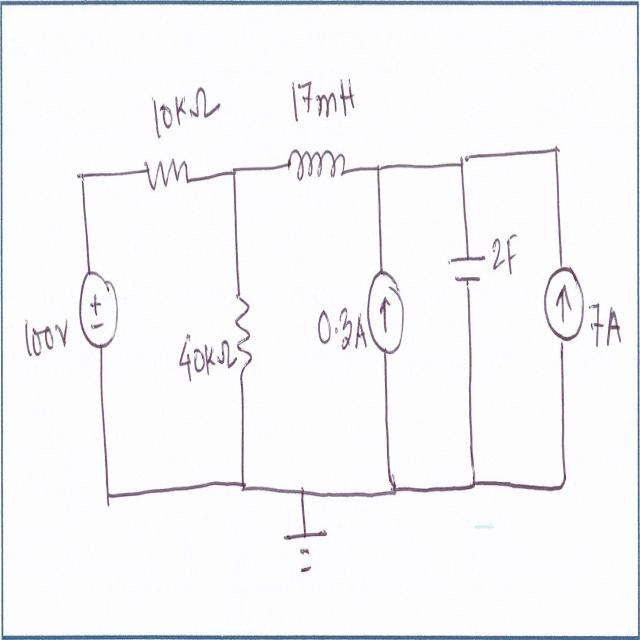capacitor: (448, 249, 487, 290)
current_source: (367, 267, 407, 361), (539, 262, 586, 340)
ground: (280, 526, 331, 580)
inductor: (288, 136, 347, 188)
resistor: (235, 290, 257, 374), (144, 156, 189, 197)
voltage_source: (77, 268, 122, 349)
